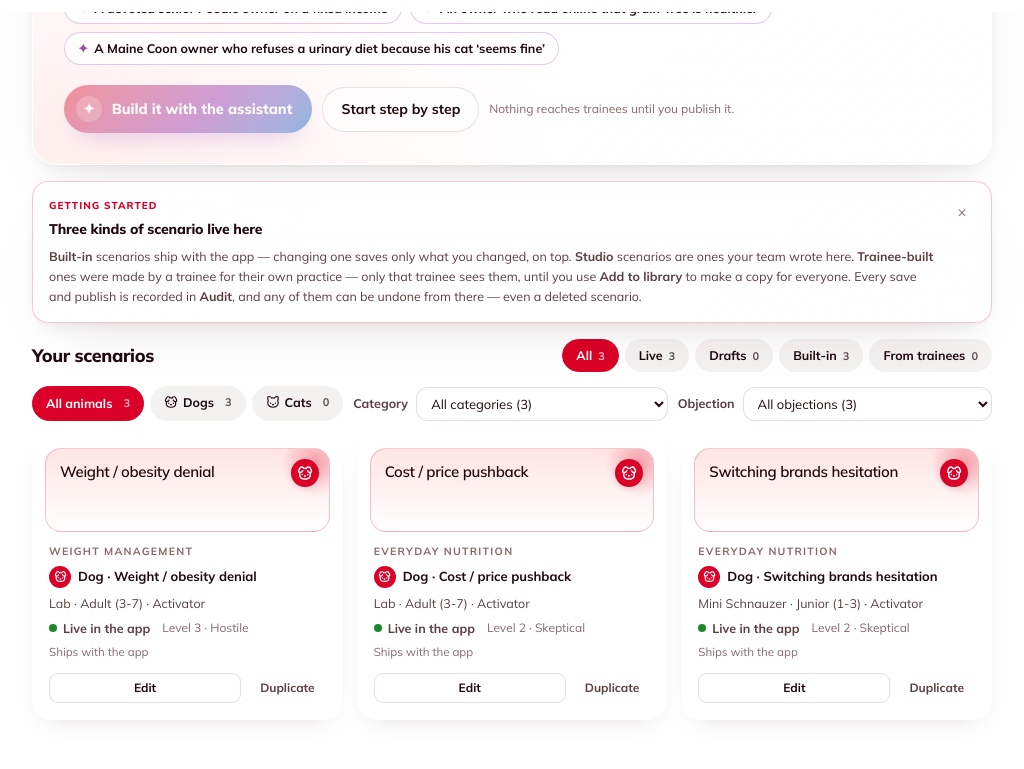
Test: ScenarioStudioScreen read errors › degrades gracefully for a role that can’t read the knowledge library
This screenshot has width=1024, height=769.
(page scrolled)
What coordinates should you click on to do the following:
click the button with aria-label "Edit “Weight / obesity denial”"
I would click on:
 (145, 688)
Its box is [49,673,241,703].
(page scrolled)
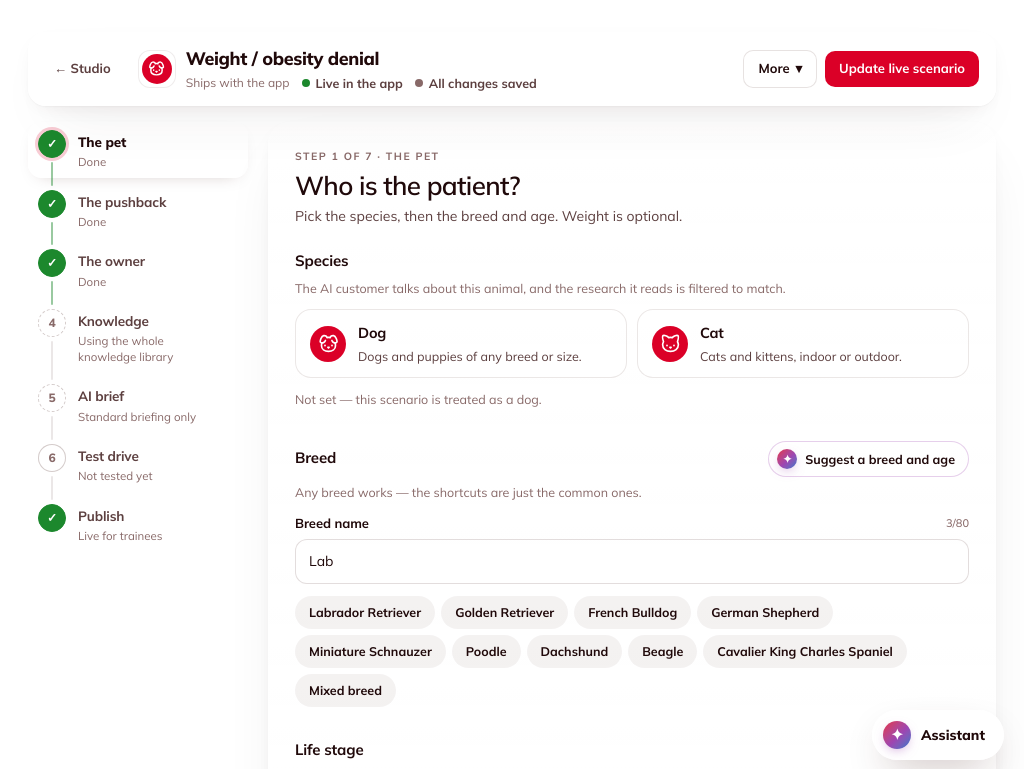
Expected: the heading "Who is the patient?" is shown, [295,168,520,202]
